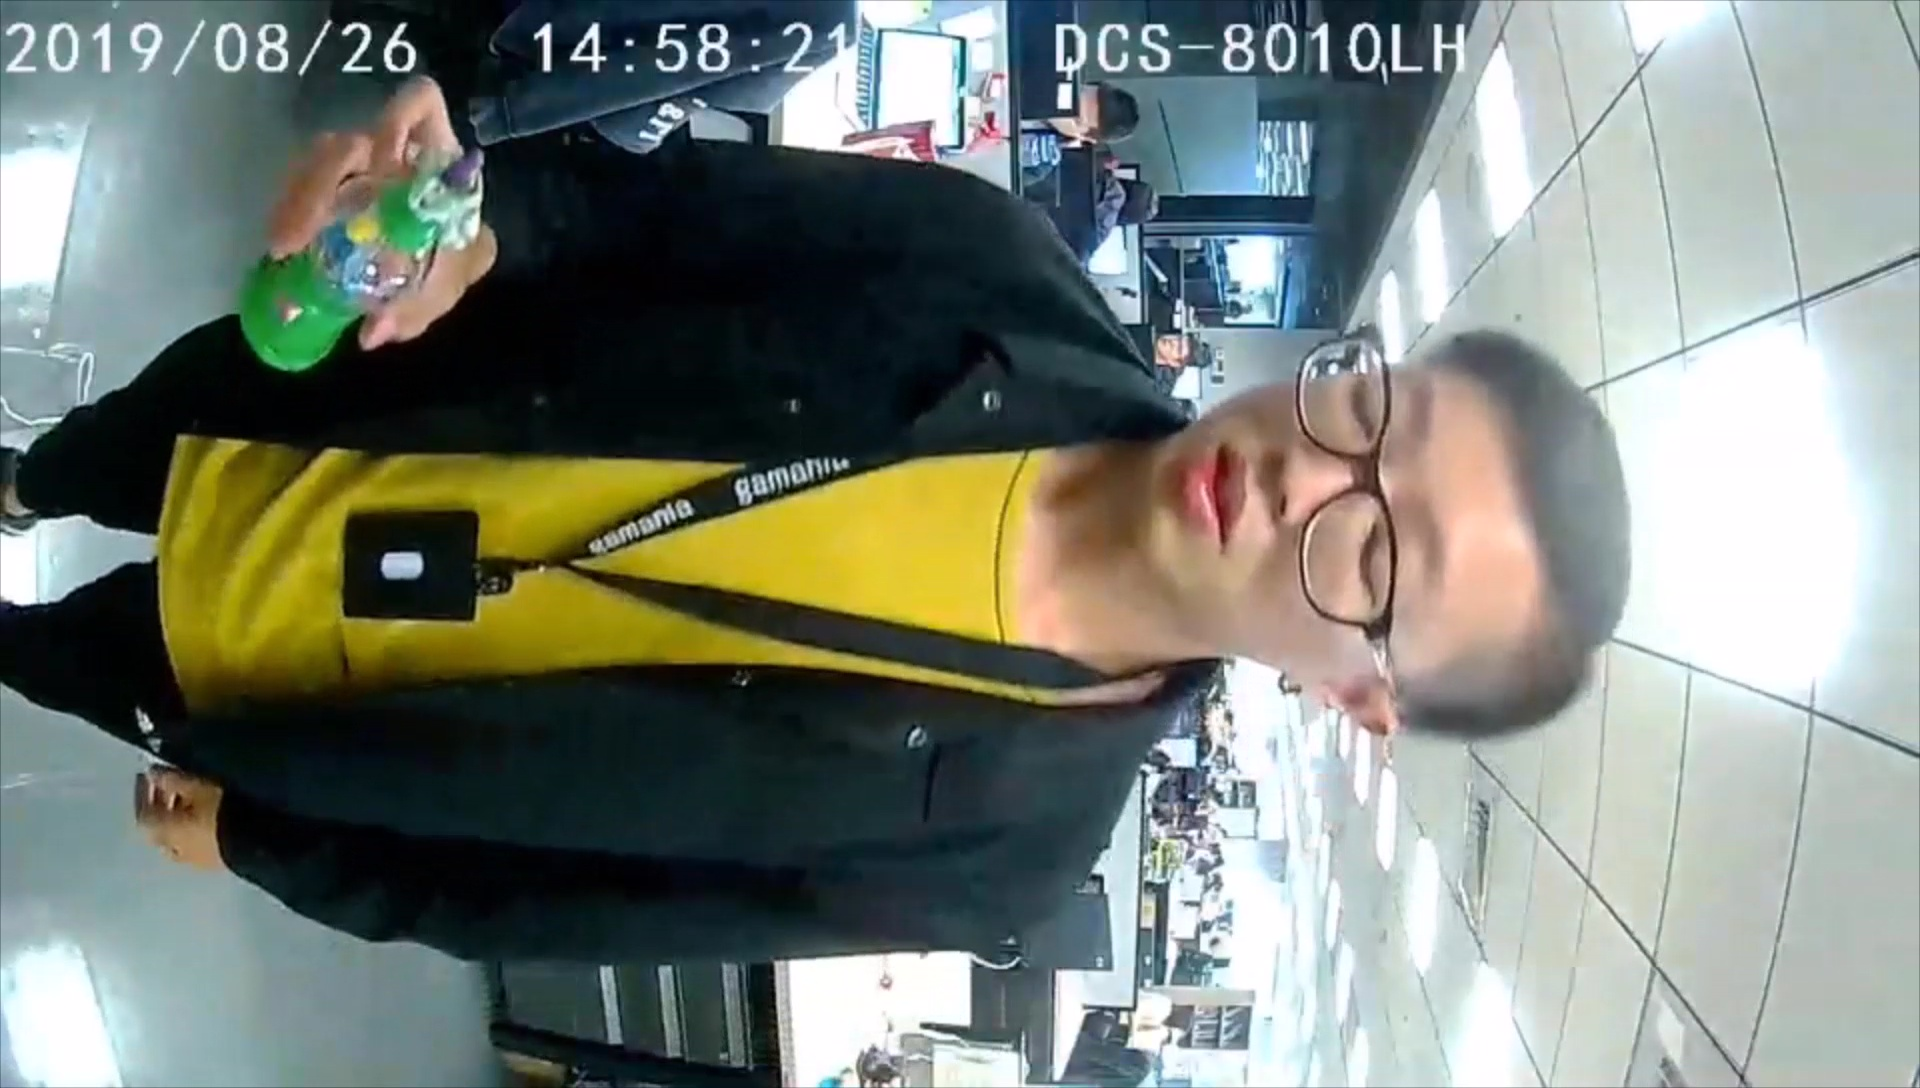buzz: (236, 149, 488, 375)
